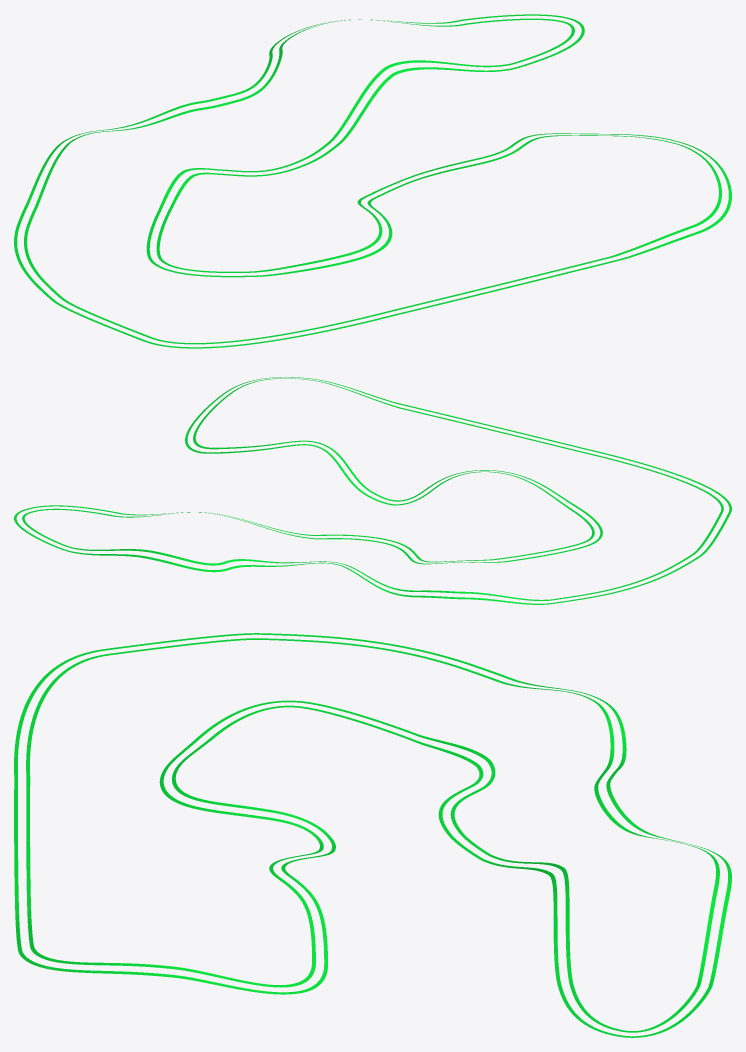
Rendered from OpenRoadGrass.fbx.
The picture shows the model from 3 angles, top to bottom: view 1: azimuth 30°, elevation 25°; view 2: azimuth 150°, elevation 25°; view 3: azimuth 270°, elevation 25°; orthographic projection. The views are drawn at different scales.
Parts seen in each view (by area): view 1: GrassVerge; view 2: GrassVerge; view 3: GrassVerge.
Boxes of the visible parts, x1,y1,x2,y2 form: GrassVerge: [14, 14, 731, 348]; GrassVerge: [14, 377, 731, 604]; GrassVerge: [14, 633, 731, 1037].
Size of the model in its own units: 158134 by 6909 by 118563.
